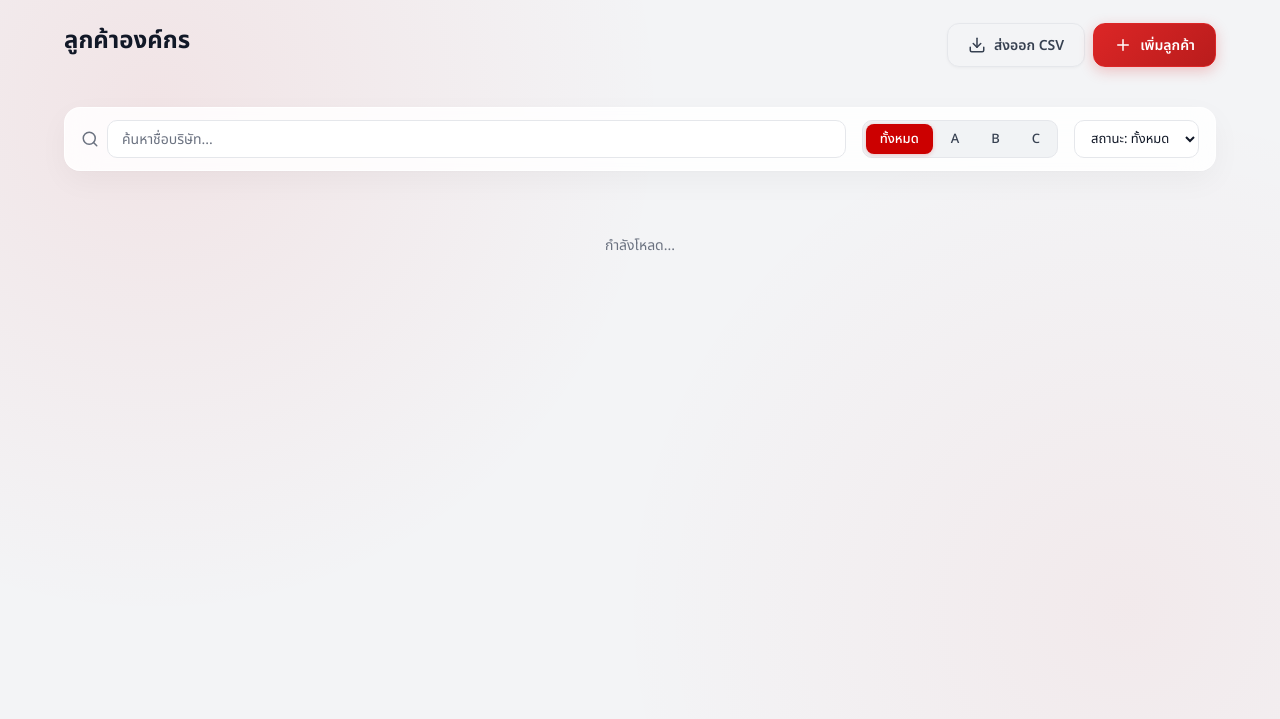
Test: Customers › closes modal when cancel is clicked
The width and height of the screenshot is (1280, 719).
Click the button "เพิ่มลูกค้า" at x=1155, y=45, box [1093,23,1216,67]
(page scrolled)
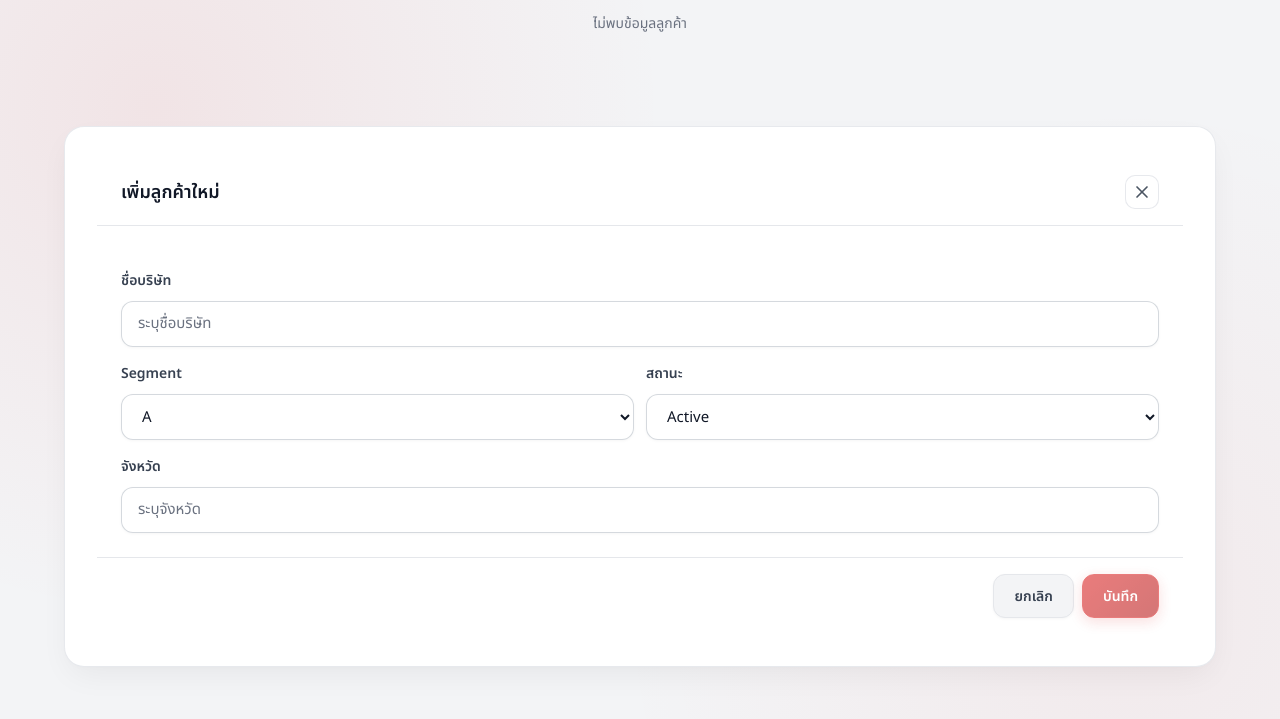
Expected: the heading "เพิ่มลูกค้าใหม่" is shown, [121,178,220,206]
Click the button "ยกเลิก" at x=1034, y=596, box [994,574,1074,618]
(page scrolled)
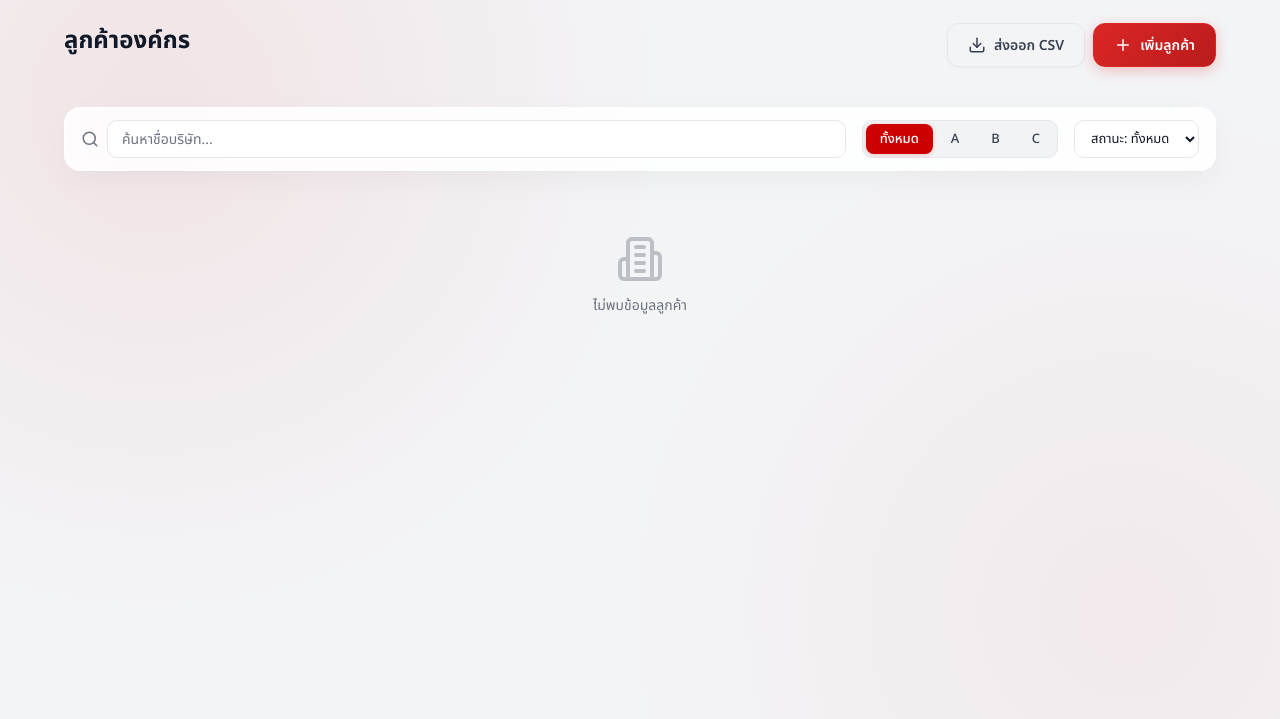
Expected: the heading "เพิ่มลูกค้าใหม่" is gone
